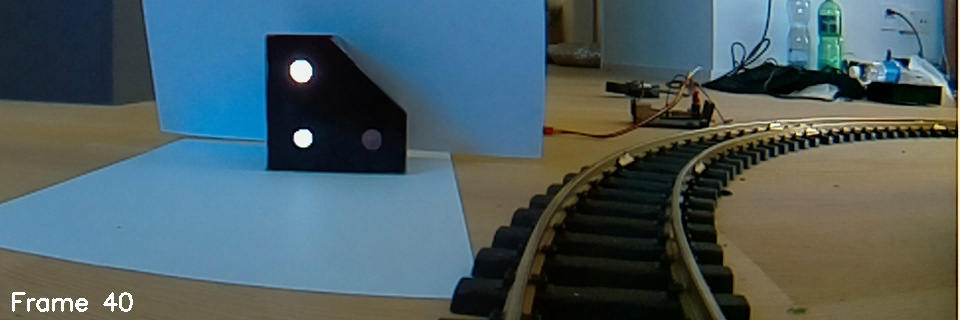Fahrt: (261, 29, 411, 179)
